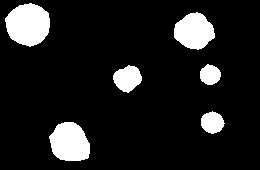cell: (5, 3, 49, 46), (49, 122, 89, 160), (174, 12, 214, 49), (113, 65, 141, 92), (201, 111, 224, 133), (200, 64, 220, 84)
